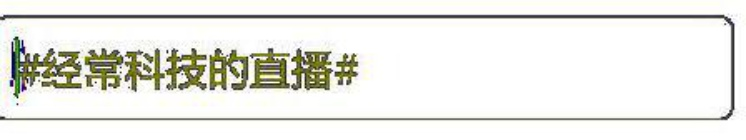EditText: (1, 1, 745, 139)
